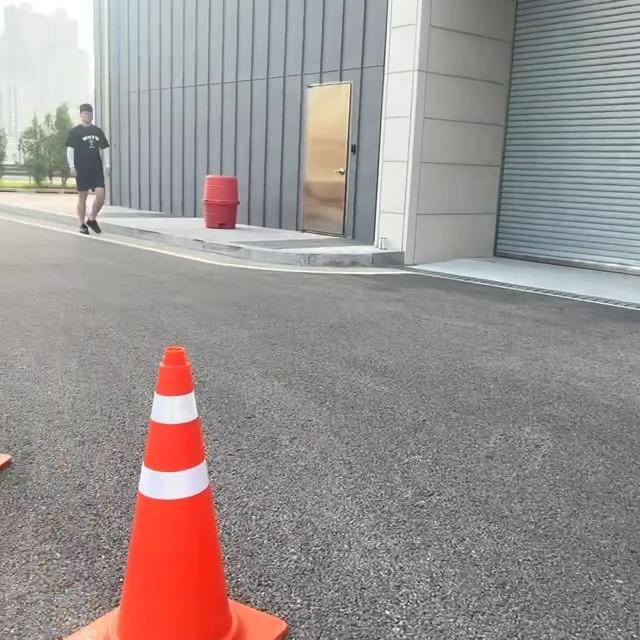fallen_object: (52, 297, 261, 640)
